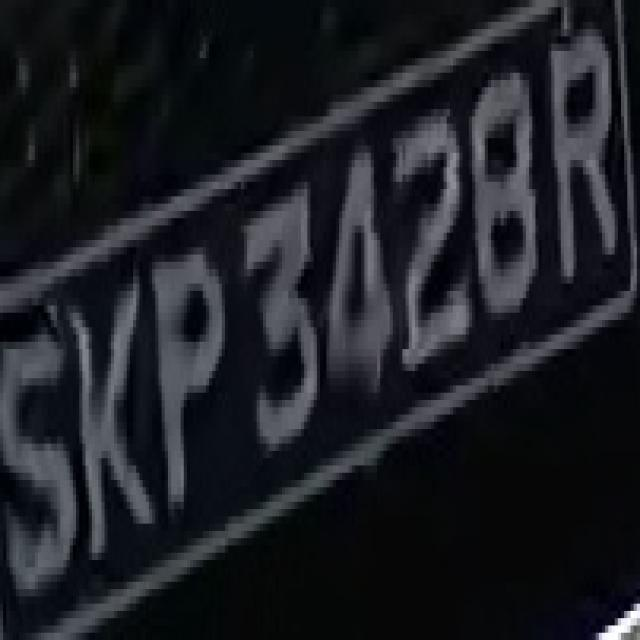2: (381, 117, 478, 386)
3: (228, 174, 326, 451)
4: (314, 138, 406, 415)
8: (459, 51, 545, 349)
K: (70, 262, 158, 545)
P: (143, 211, 231, 516)
R: (538, 22, 630, 269)
S: (13, 305, 86, 611)
